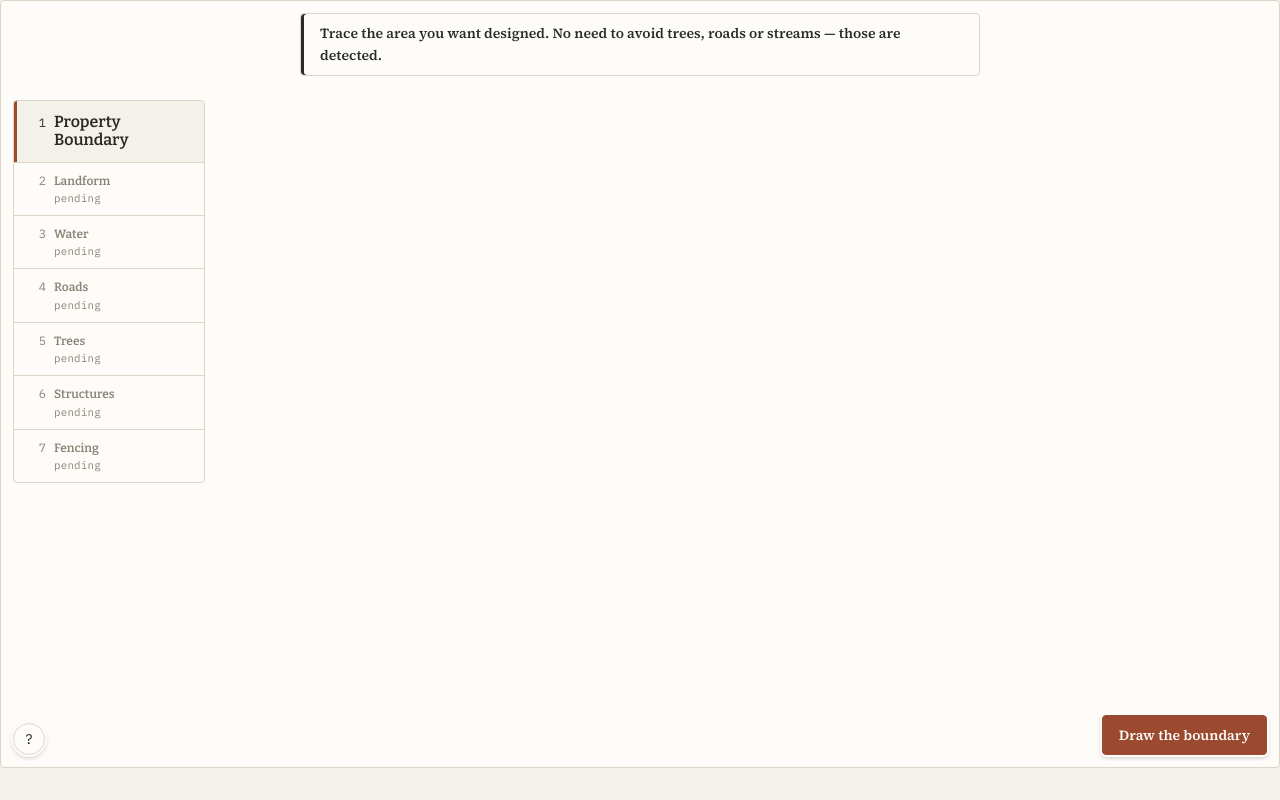
Scenario: 3. paging and closing › pages with the arrow keys, and stops at either end
Later steps or results of the test are not shown.
Click the button with test id "tutorial-help" at (29, 739), box 13,723 -> 45,755
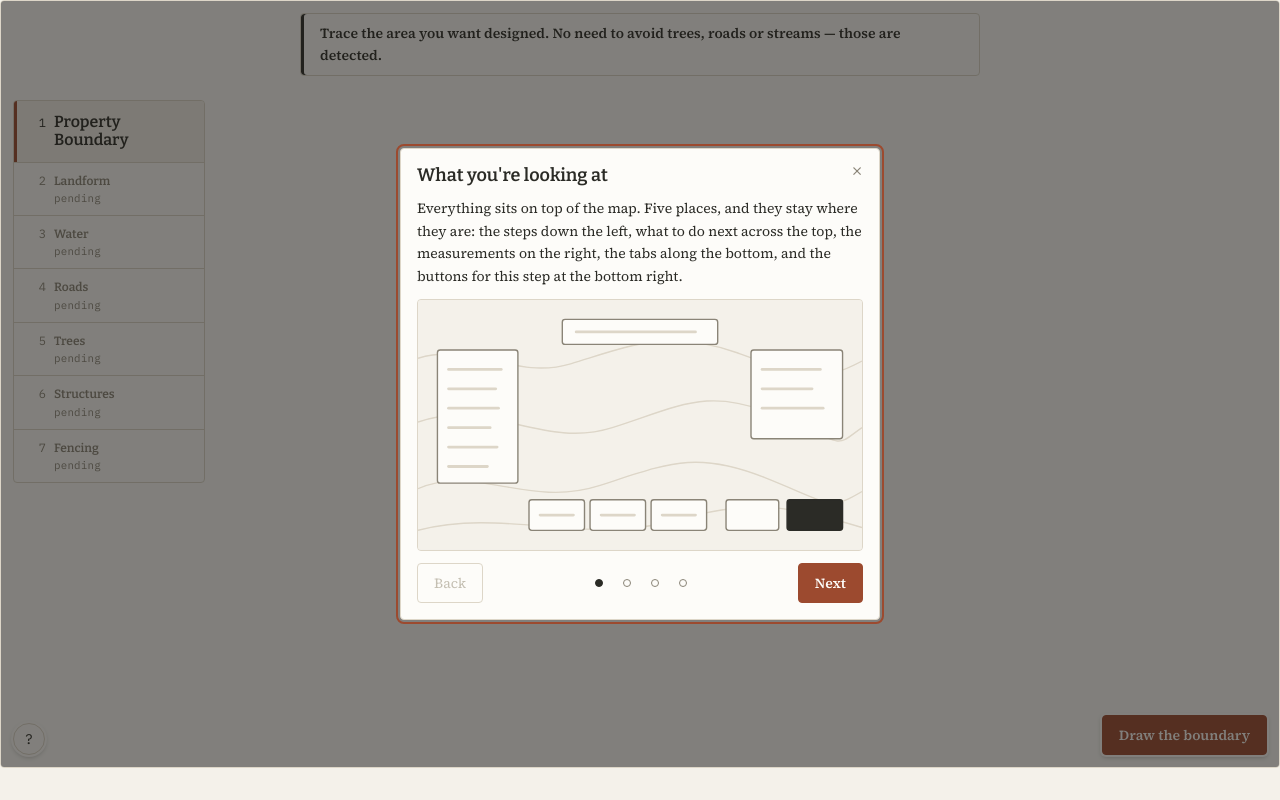
Press ArrowLeft in the dialog, box 400,148 -> 880,620
Now the heading "What you're looking at" is shown, box 417,164 -> 608,186
Press ArrowRight in the dialog, box 400,148 -> 880,620
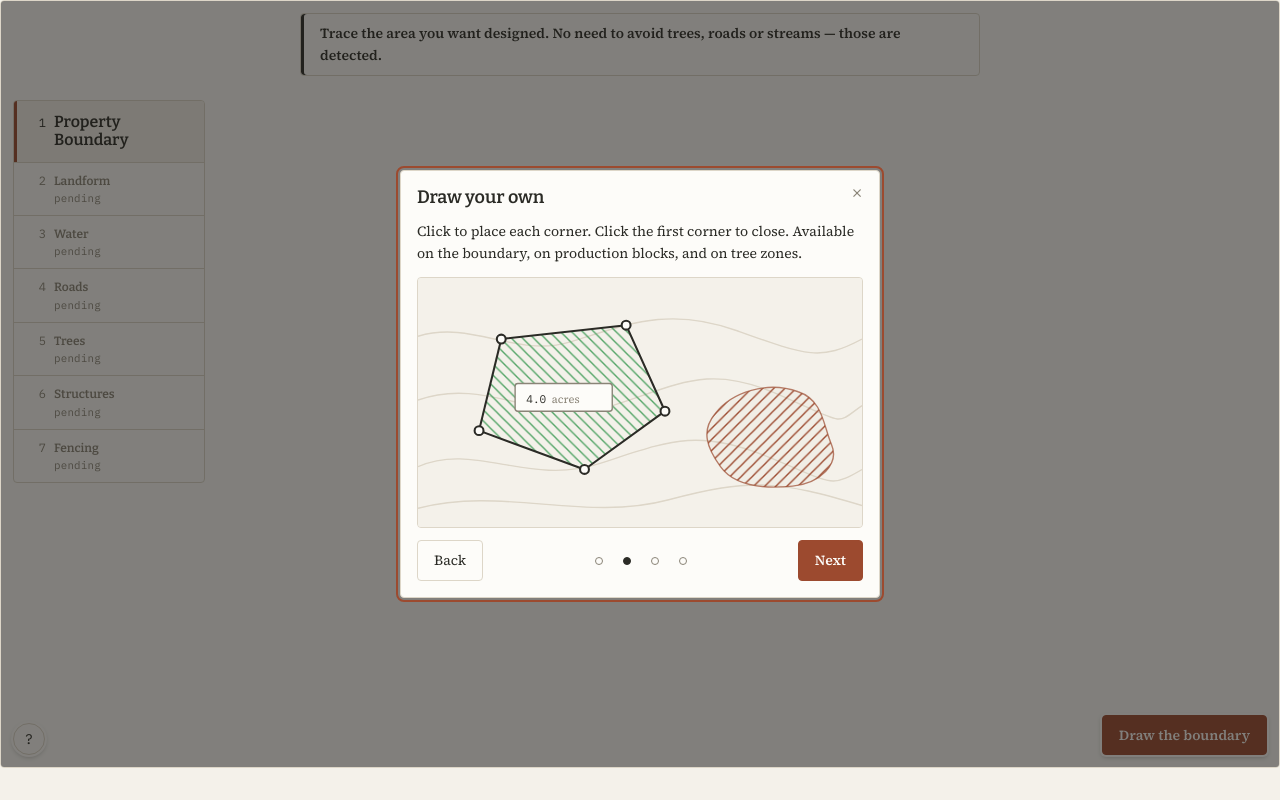
Now the heading "Draw your own" is shown, box 417,186 -> 544,208
Press ArrowRight in the dialog, box 400,170 -> 880,598
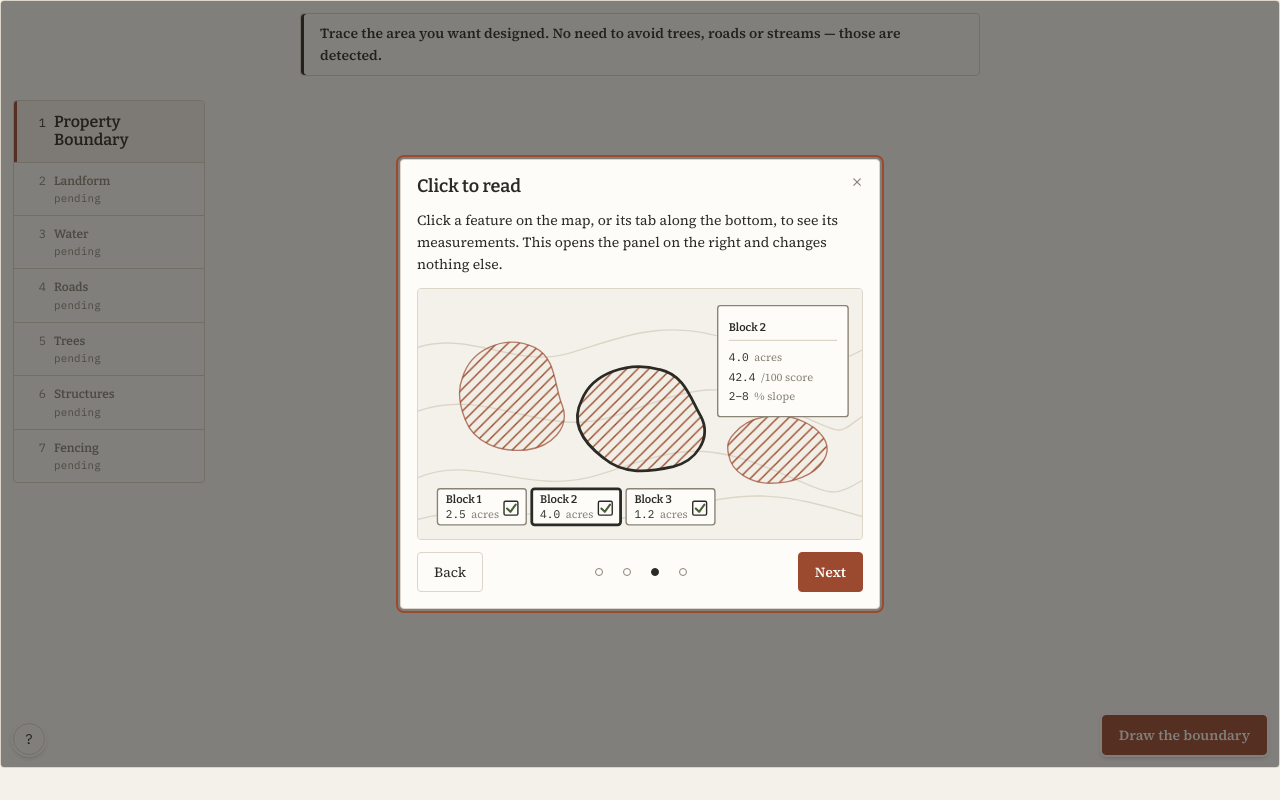
Press ArrowRight in the dialog, box 400,159 -> 880,609
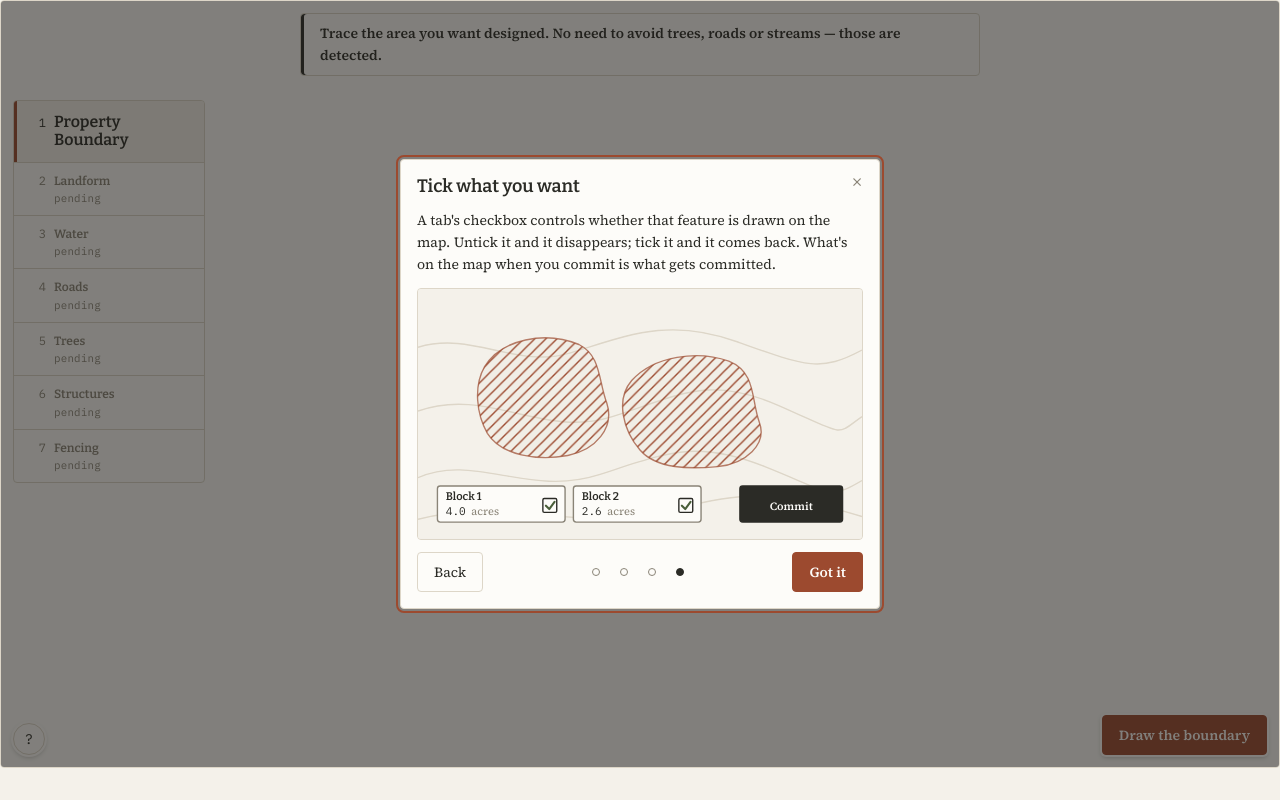
Now the heading "Tick what you want" is shown, box 417,175 -> 580,197
Press ArrowRight in the dialog, box 400,159 -> 880,609
Now the heading "Tick what you want" is shown, box 417,175 -> 580,197
